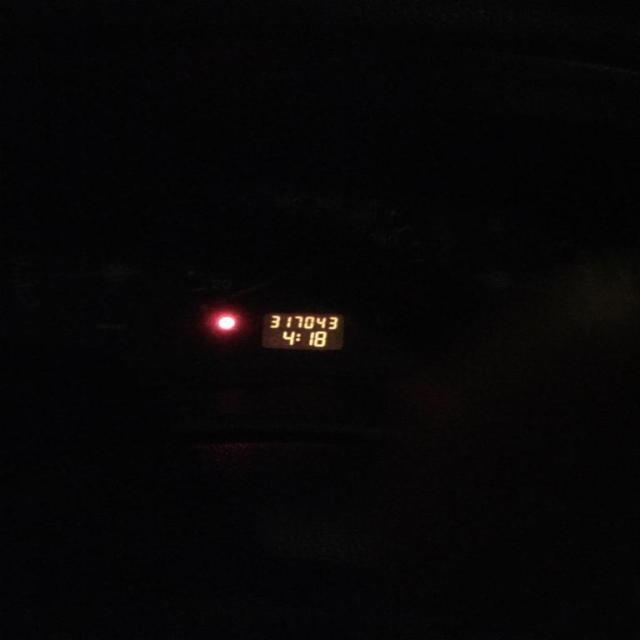odometer: (257, 309, 349, 353)
